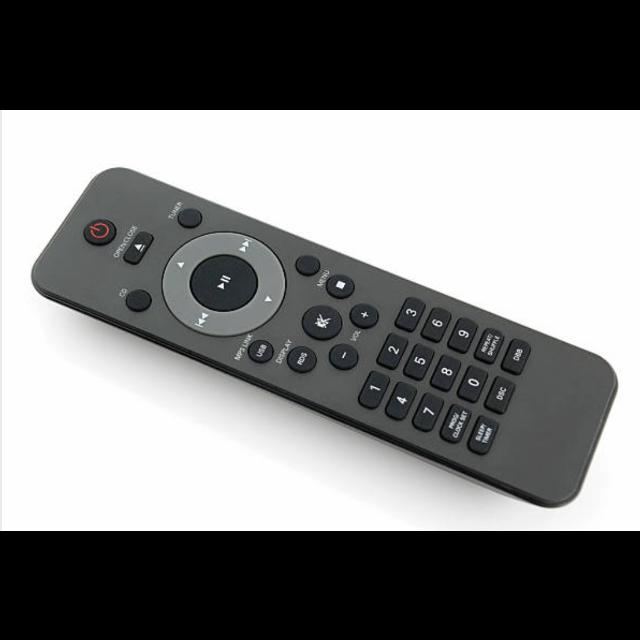TV-Remote-Control: (29, 166, 620, 509)
